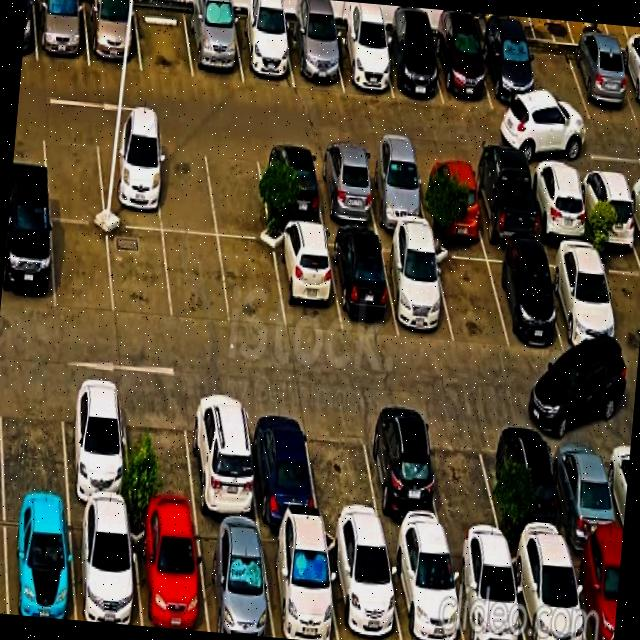empty: (426, 414, 504, 545), (304, 407, 382, 534), (123, 387, 196, 518), (0, 377, 68, 503), (433, 243, 508, 346), (204, 140, 270, 240), (154, 136, 217, 234), (163, 232, 230, 324), (108, 226, 172, 322), (218, 238, 285, 329), (42, 124, 104, 222), (51, 220, 114, 314), (522, 43, 589, 120), (596, 249, 640, 361), (134, 4, 193, 77)
occupied: (362, 411, 446, 539), (185, 394, 258, 523), (245, 399, 319, 526), (194, 520, 274, 637), (549, 424, 622, 550), (61, 380, 131, 511), (498, 419, 569, 547), (131, 514, 208, 631), (260, 526, 338, 640), (324, 531, 401, 640), (70, 508, 141, 626), (542, 246, 619, 353), (4, 504, 74, 620), (385, 539, 464, 640), (447, 541, 525, 640), (380, 237, 453, 342), (485, 247, 562, 346), (508, 545, 586, 640), (327, 232, 398, 333), (273, 228, 341, 332), (96, 130, 162, 229), (469, 161, 539, 245), (567, 45, 637, 124), (416, 157, 484, 238), (257, 145, 324, 227), (312, 148, 378, 229), (0, 211, 54, 310), (362, 152, 429, 231), (577, 166, 640, 247), (527, 164, 591, 243), (478, 35, 541, 114), (569, 548, 621, 640), (431, 32, 492, 109), (380, 32, 443, 103), (233, 15, 294, 87), (184, 9, 243, 83), (331, 27, 393, 97), (83, 0, 141, 70), (286, 23, 343, 90), (34, 0, 89, 65), (616, 51, 640, 123)
